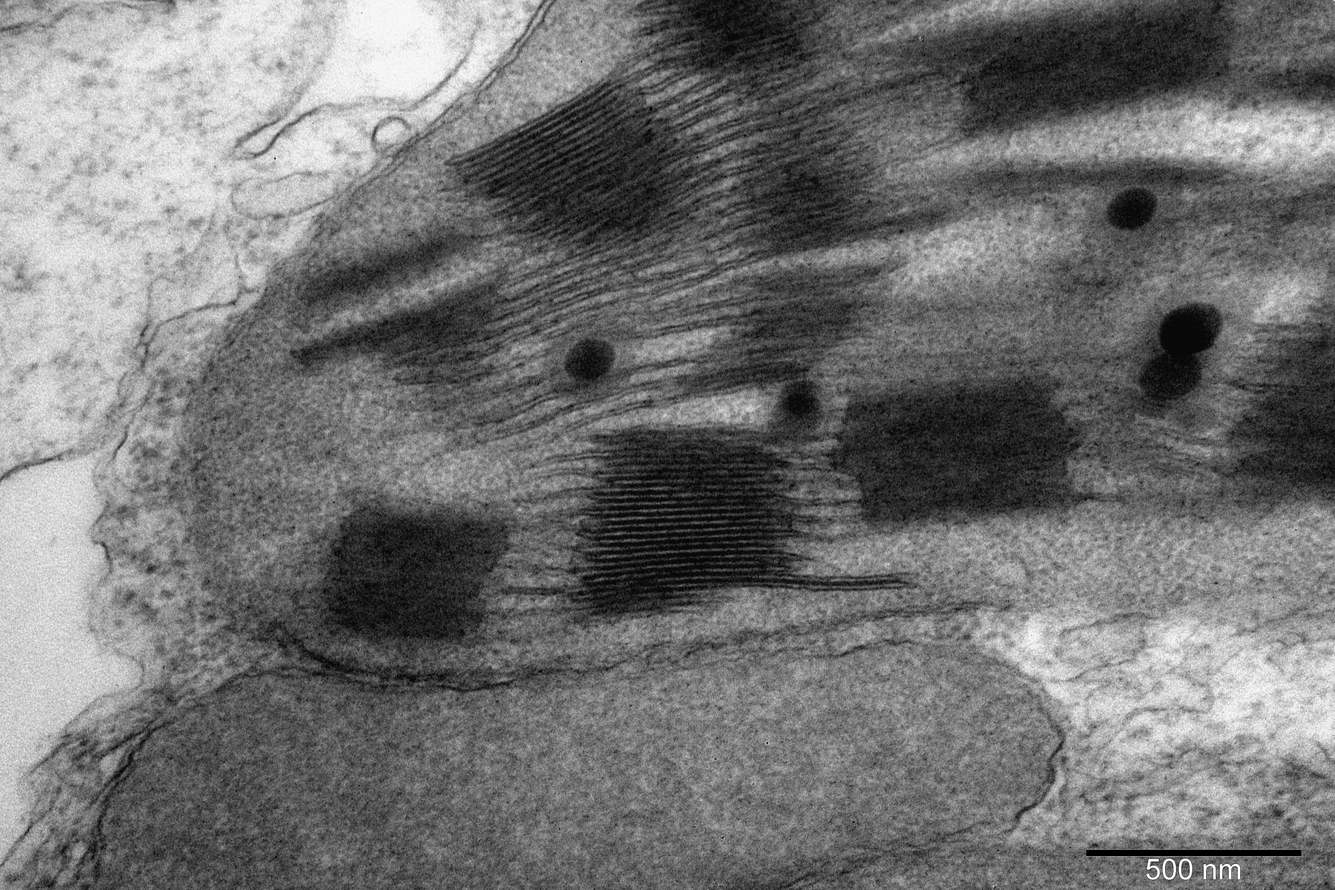granum: (557, 417, 797, 633), (444, 71, 704, 259), (892, 0, 1234, 141), (841, 372, 1079, 531), (319, 499, 510, 643), (283, 271, 498, 386), (1231, 298, 1333, 492), (302, 226, 480, 310), (663, 0, 825, 80), (678, 351, 815, 405), (730, 297, 851, 345), (1225, 61, 1333, 109), (737, 260, 865, 300)
